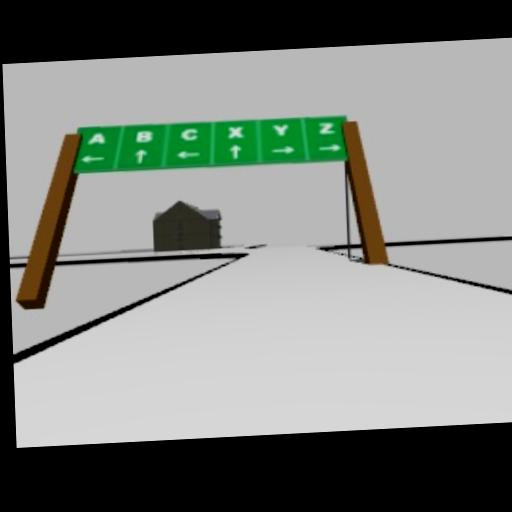A: (85, 131, 106, 145)
B: (135, 129, 154, 143)
C: (179, 127, 198, 140)
Left: (175, 149, 201, 160), (79, 154, 105, 163)
Right: (268, 144, 296, 157), (318, 143, 342, 153)
Straight: (227, 143, 243, 159), (134, 148, 148, 164)
X: (227, 124, 246, 138)
Y: (273, 124, 288, 136)
Z: (317, 120, 334, 134)
